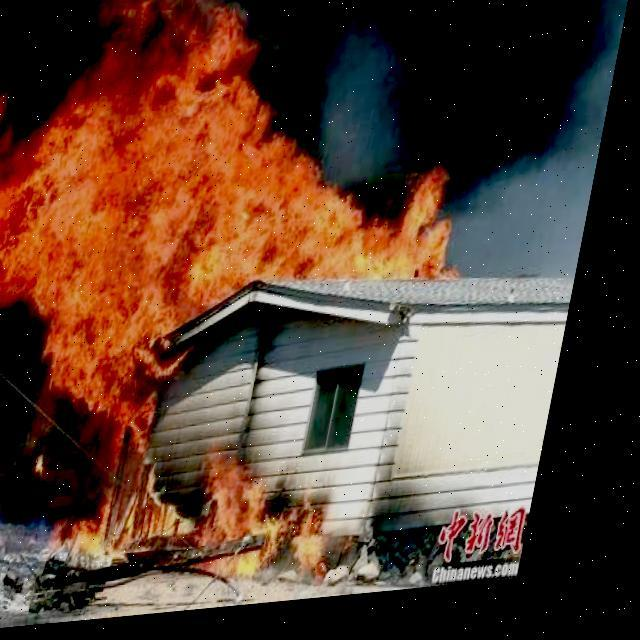Fire: (0, 0, 505, 410), (67, 408, 370, 604)
